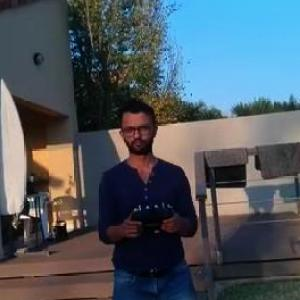follow: (89, 90, 201, 299)
